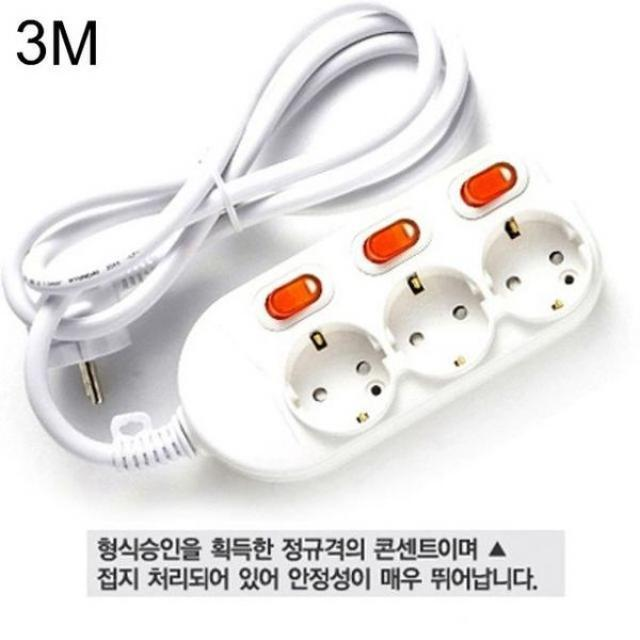typeb: (188, 156, 608, 504)
